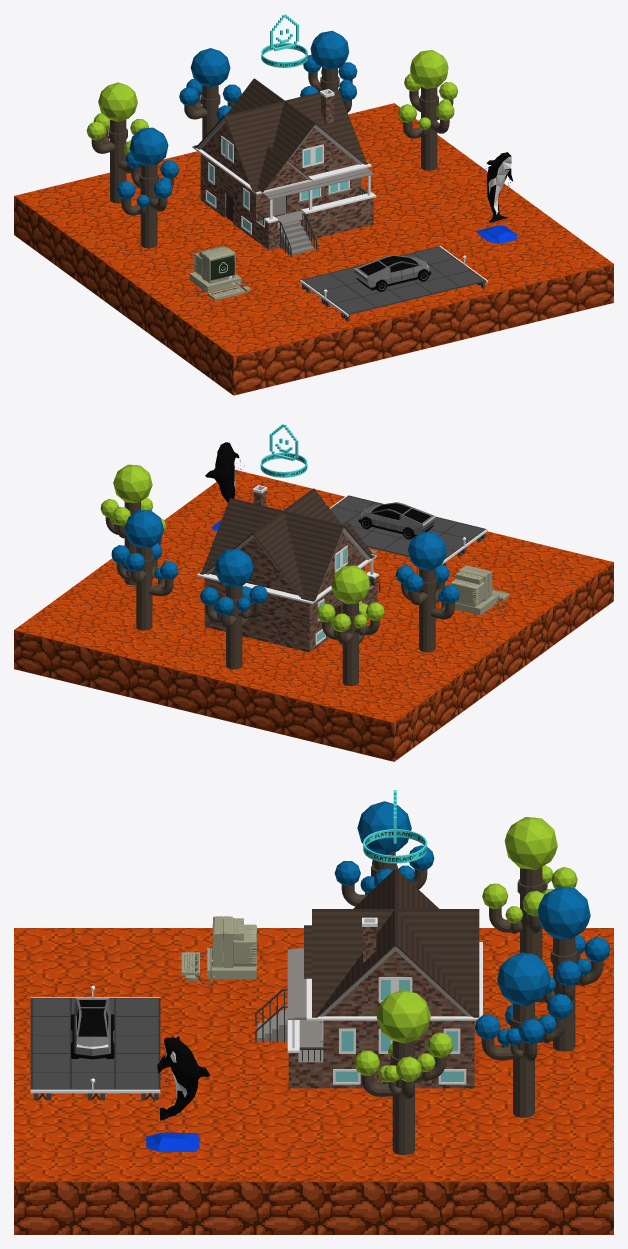
3 renders of one model, top to bottom at view 1: azimuth 30°, elevation 25°; view 2: azimuth 150°, elevation 25°; view 3: azimuth 270°, elevation 25°, orthographic. The views are drawn at different scales.
Visible parts, largest first — view 1: Cube.001, Cube.117, OBJRANDOM_RETRO_PC, VEHICLES_CYBERTRUCK, ANIMAL_ORCA, TYPE_PREMIUM; view 2: Cube.001, Cube.117, VEHICLES_CYBERTRUCK, OBJRANDOM_RETRO_PC, ANIMAL_ORCA, TYPE_PREMIUM; view 3: Cube.001, Cube.117, OBJRANDOM_RETRO_PC, ANIMAL_ORCA, VEHICLES_CYBERTRUCK, TYPE_PREMIUM.
Boxes of the visible parts, <box> form: Cube.001: <box>14,30,613,395</box>; Cube.117: <box>192,78,376,256</box>; OBJRANDOM_RETRO_PC: <box>189,246,250,300</box>; VEHICLES_CYBERTRUCK: <box>354,254,431,291</box>; ANIMAL_ORCA: <box>475,152,517,244</box>; TYPE_PREMIUM: <box>261,14,307,67</box>; Cube.001: <box>14,464,613,761</box>; Cube.117: <box>197,485,380,652</box>; VEHICLES_CYBERTRUCK: <box>358,502,435,539</box>; OBJRANDOM_RETRO_PC: <box>450,565,509,615</box>; ANIMAL_ORCA: <box>205,442,244,530</box>; TYPE_PREMIUM: <box>260,424,307,477</box>; Cube.001: <box>14,801,613,1234</box>; Cube.117: <box>255,869,482,1088</box>; OBJRANDOM_RETRO_PC: <box>181,916,256,984</box>; ANIMAL_ORCA: <box>146,1036,210,1151</box>; VEHICLES_CYBERTRUCK: <box>71,998,114,1059</box>; TYPE_PREMIUM: <box>363,790,426,863</box>.
Bounding box in the file's own units: 4000 × 2360 × 4000.
Materials: 32 (7 with a texture image).
